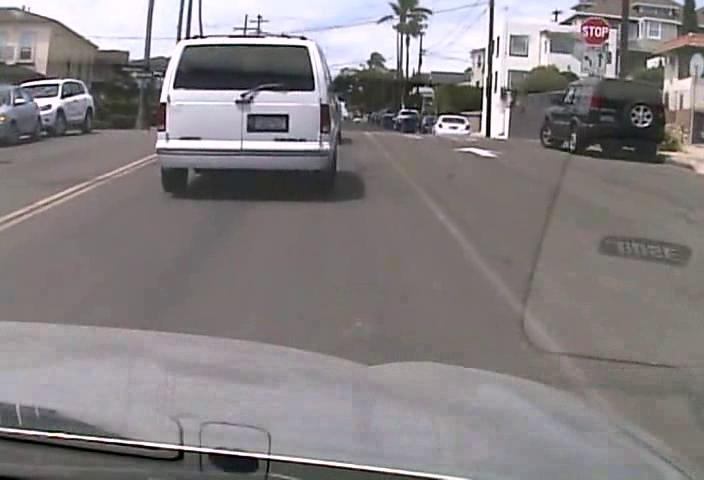stop: (580, 16, 610, 46)
